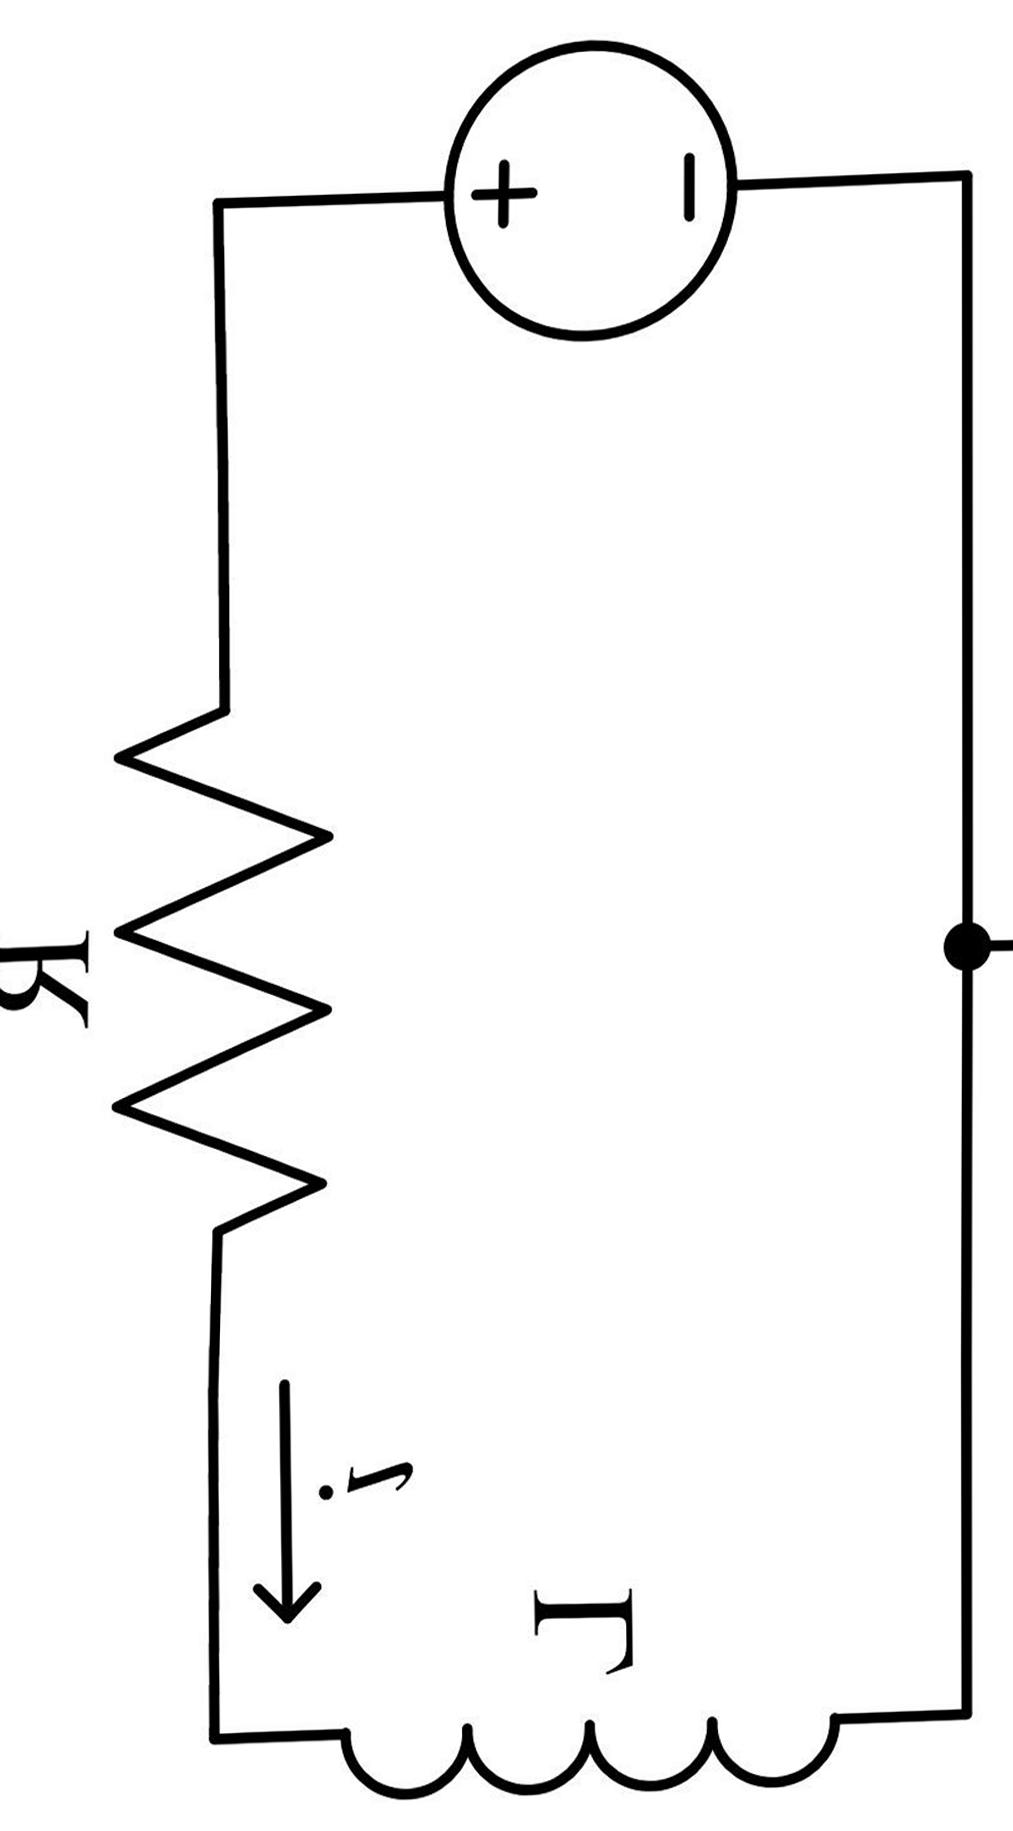Battery: (337, 6, 832, 348)
